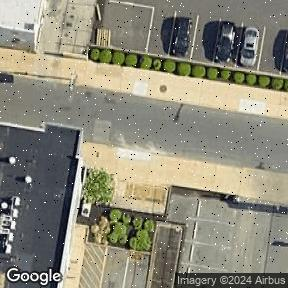vegetation: (83, 168, 115, 206)
